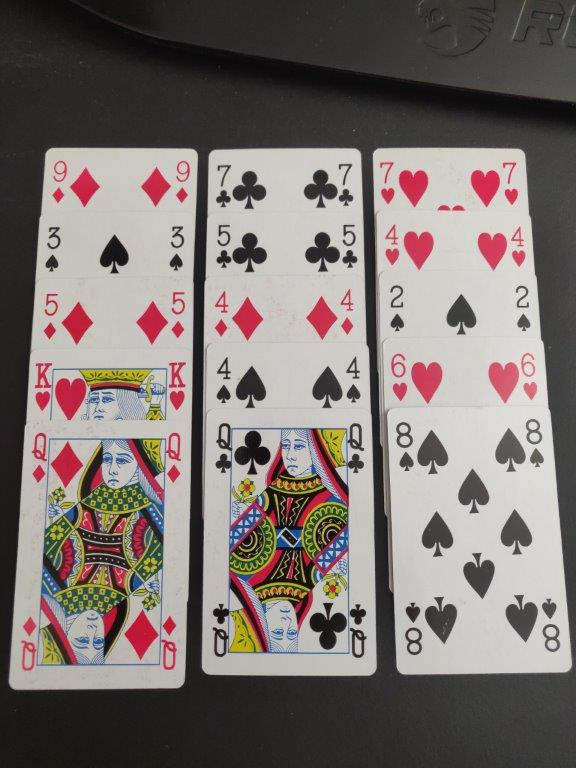2S: (382, 280, 412, 337), (511, 281, 537, 333)
3S: (164, 219, 190, 273), (42, 222, 64, 280)
4D: (211, 286, 233, 340), (337, 283, 357, 337)
4H: (381, 220, 405, 273), (508, 220, 532, 272)
4S: (211, 353, 237, 407), (340, 353, 366, 407)
5C: (338, 220, 361, 272), (214, 219, 236, 273)
5D: (166, 286, 190, 343), (40, 289, 61, 342)
6H: (387, 349, 413, 407), (517, 346, 541, 402)
7C: (332, 157, 357, 209), (211, 158, 234, 212)
7H: (373, 155, 399, 207), (498, 154, 522, 210)
8S: (392, 417, 421, 478), (522, 414, 549, 471)
9D: (47, 155, 72, 211), (171, 156, 194, 208)
KH: (30, 357, 60, 415), (166, 358, 188, 412)
QC: (343, 420, 368, 477), (212, 420, 236, 478)
QD: (162, 428, 187, 487), (29, 430, 52, 487)
